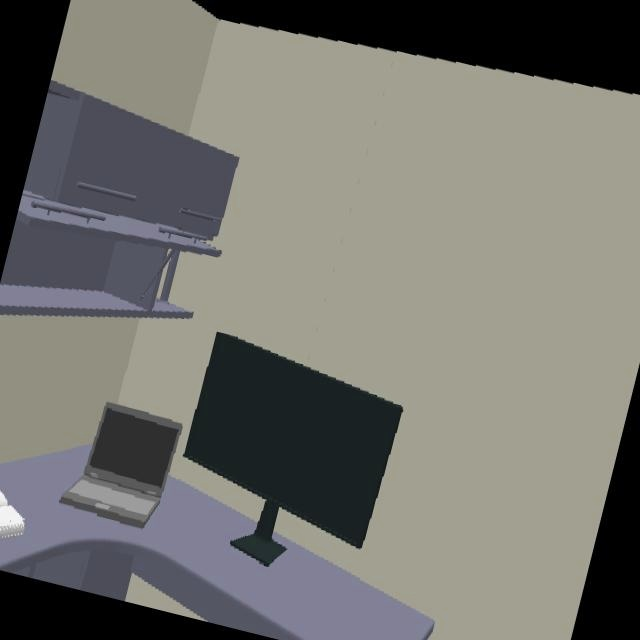book: (0, 491, 24, 538)
cabinet: (0, 81, 237, 318)
laptop: (60, 403, 181, 526)
monitor: (183, 332, 402, 565)
table: (0, 446, 432, 640)
